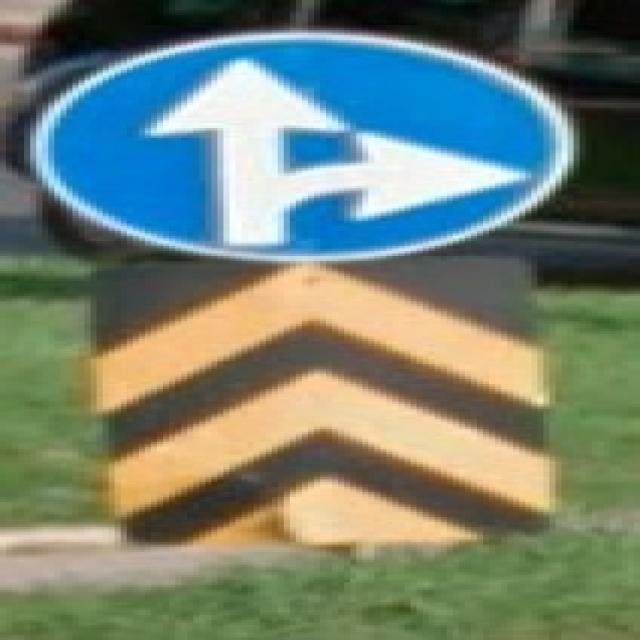Straight or Right: (37, 33, 569, 254)
